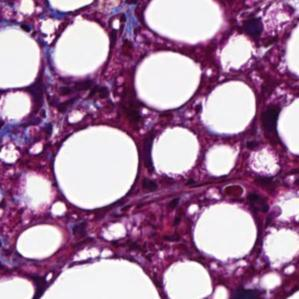inflammation: (66, 219, 93, 246), (220, 180, 247, 201), (218, 181, 248, 199)
